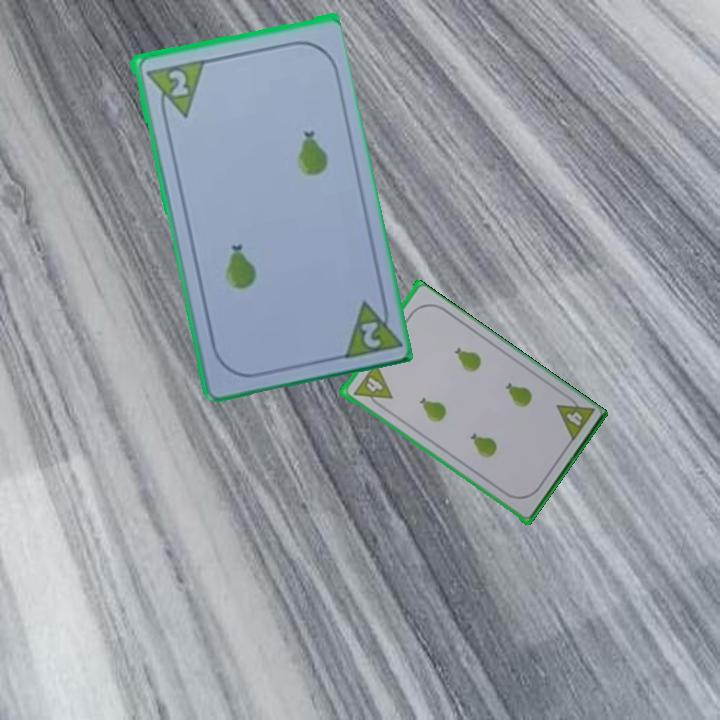2p: (141, 55, 206, 124), (357, 317, 384, 351)
4p: (360, 361, 395, 399), (562, 408, 585, 429)
